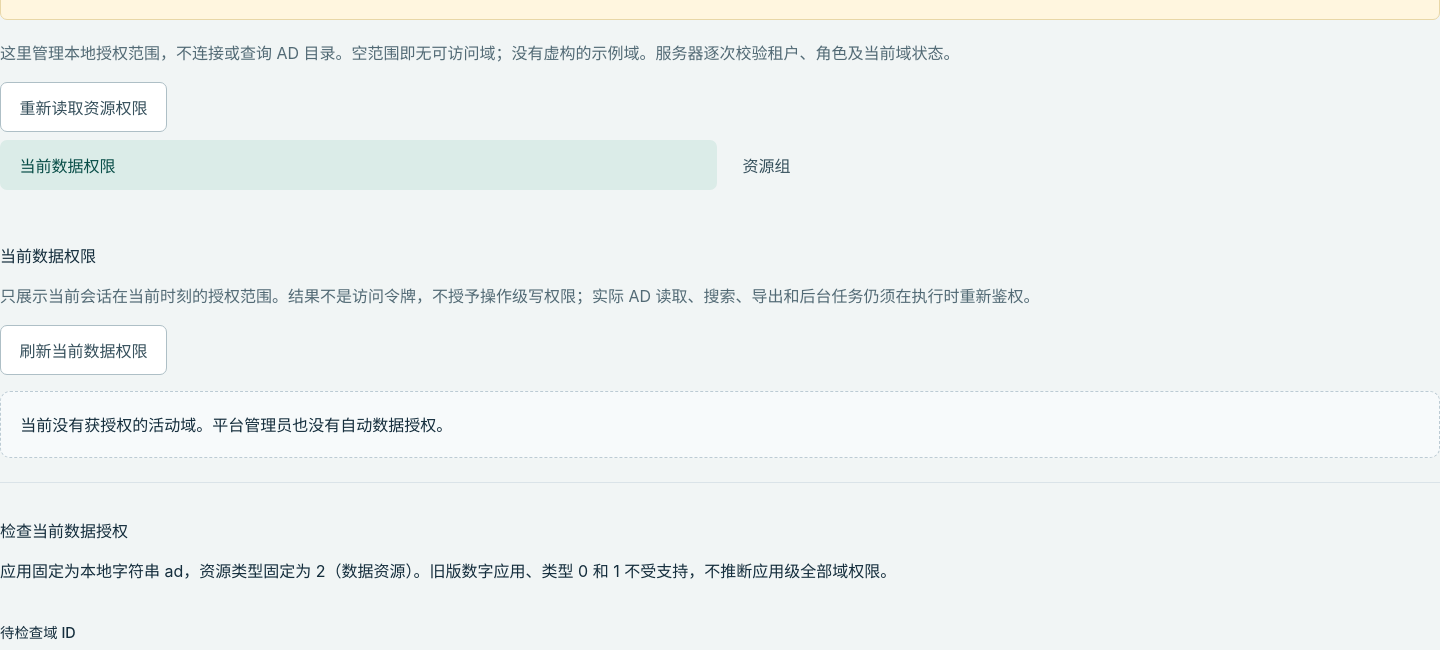
server capabilities and session scope › uses server tenant capability even when profile says platform admin and denies writes without menu grant
Click the button "资源组".
click(766, 166)  # box [723, 140, 1439, 190]
(page scrolled)
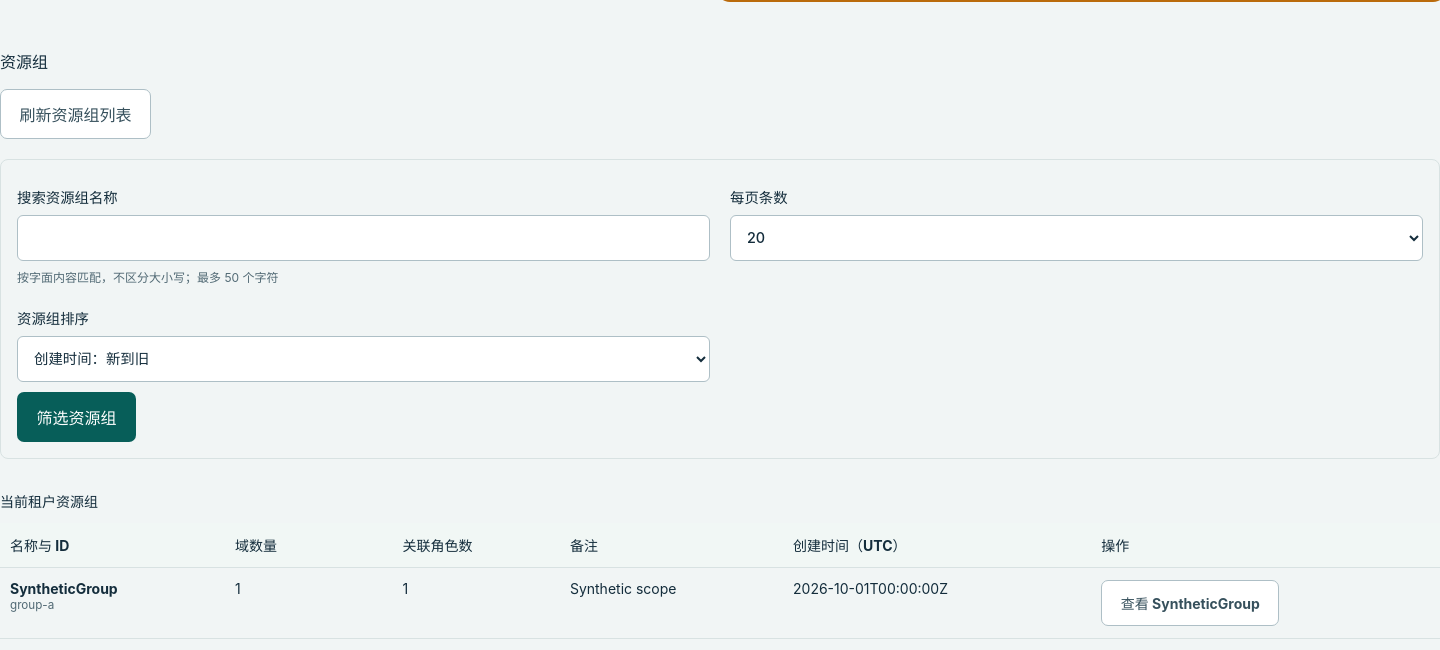
Result: the column heading "SyntheticGroup group-a" is shown at [0, 568, 225, 638]
